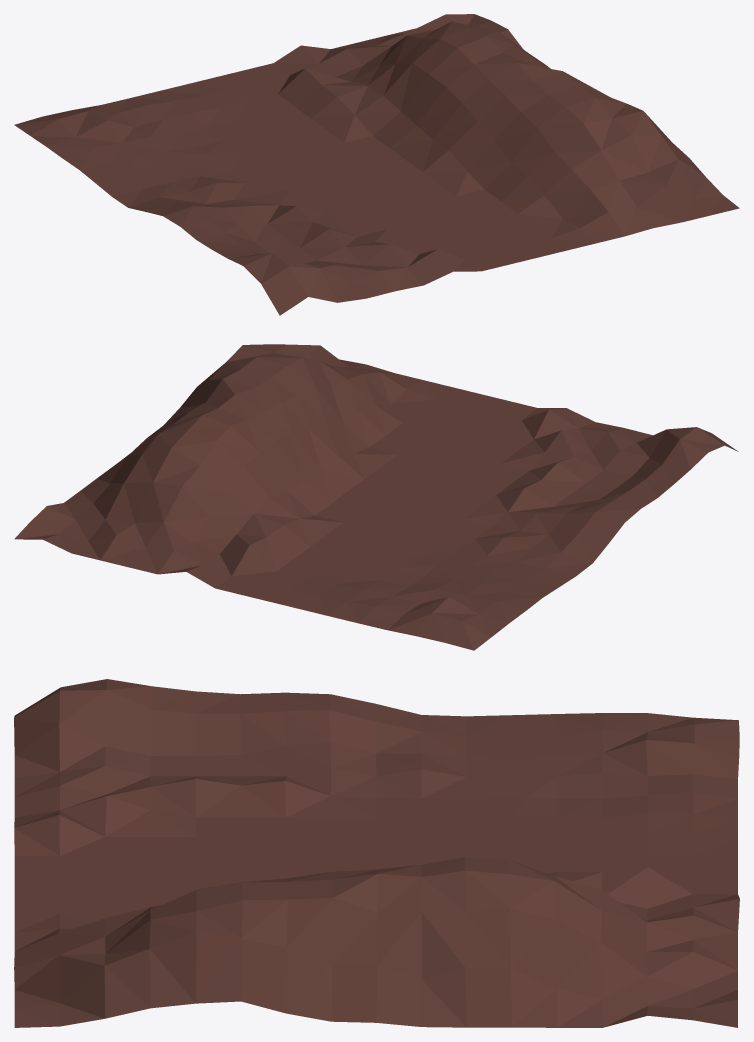
Rendered from ground2.glb.
3 renders of one model, top to bottom at view 1: azimuth 30°, elevation 25°; view 2: azimuth 150°, elevation 25°; view 3: azimuth 270°, elevation 25°, orthographic. The views are drawn at different scales.
Visible parts, largest first — view 1: Plane; view 2: Plane; view 3: Plane.
Part boxes in pixels (x1=…): Plane: x1=14, y1=14, x2=739, y2=315; Plane: x1=14, y1=344, x2=738, y2=650; Plane: x1=14, y1=679, x2=739, y2=1027.
Bounding box in the file's own units: 20.14 × 3.03 × 20.07.
Materials: 1 (1 with a texture image).
